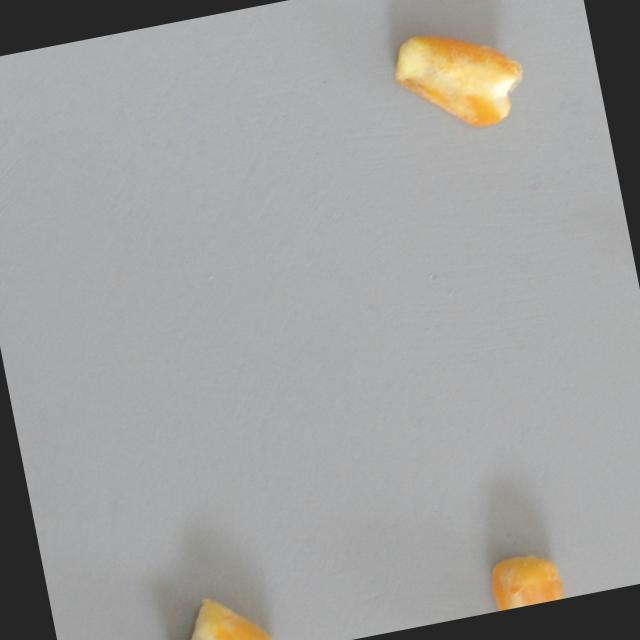pelicula: (387, 10, 532, 141), (156, 586, 280, 640), (485, 545, 565, 612)
